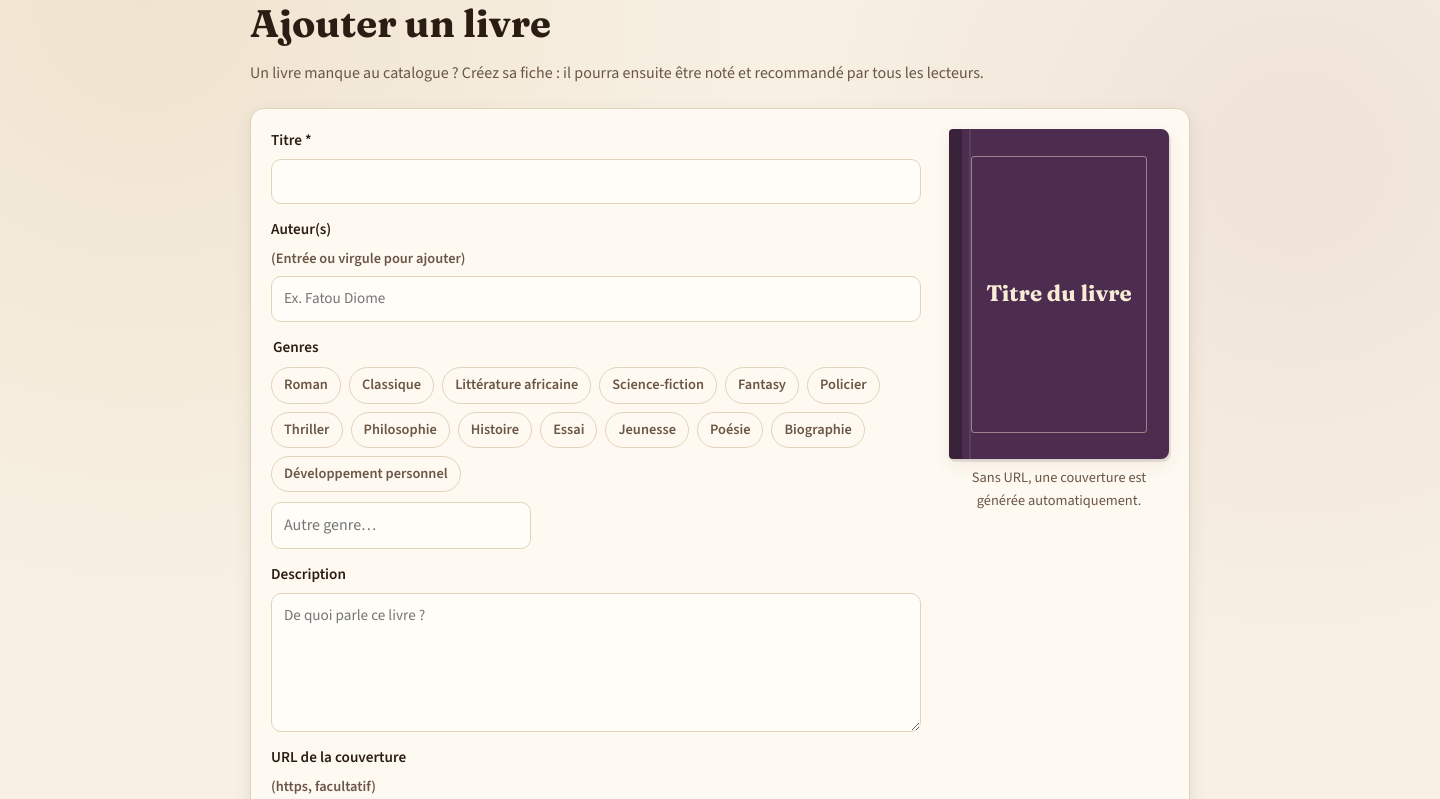
Test: BookFormPage (Ajouter un livre) › affiche le livre existant en cas de doublon (200)
The image size is (1440, 799).
Type "dune" into the field labelled "Titre *".
click(596, 182); type("dune")  # box [271,159,921,204]
(page scrolled)
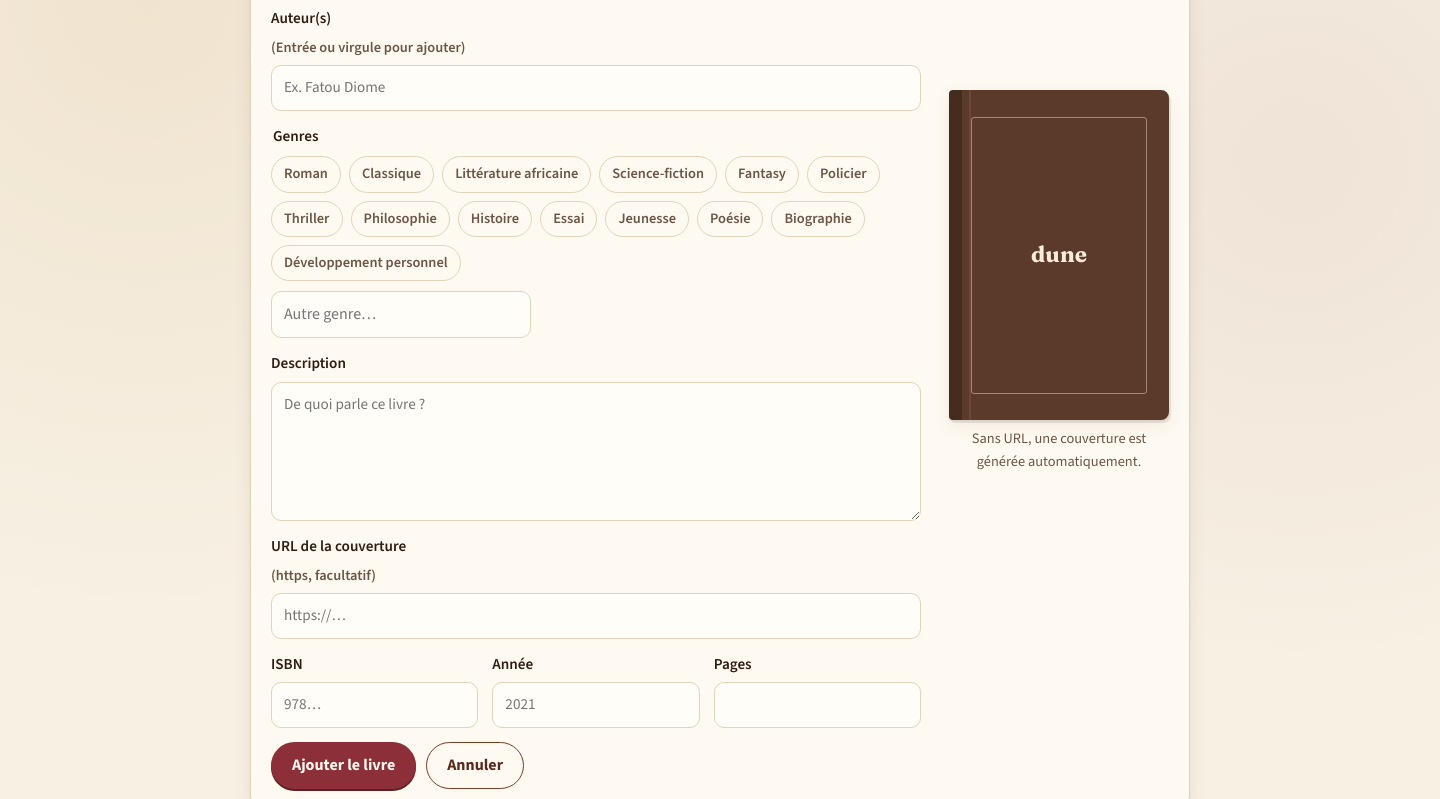
Click the button "Ajouter le livre".
click(344, 765)  # box [271,742,416,789]
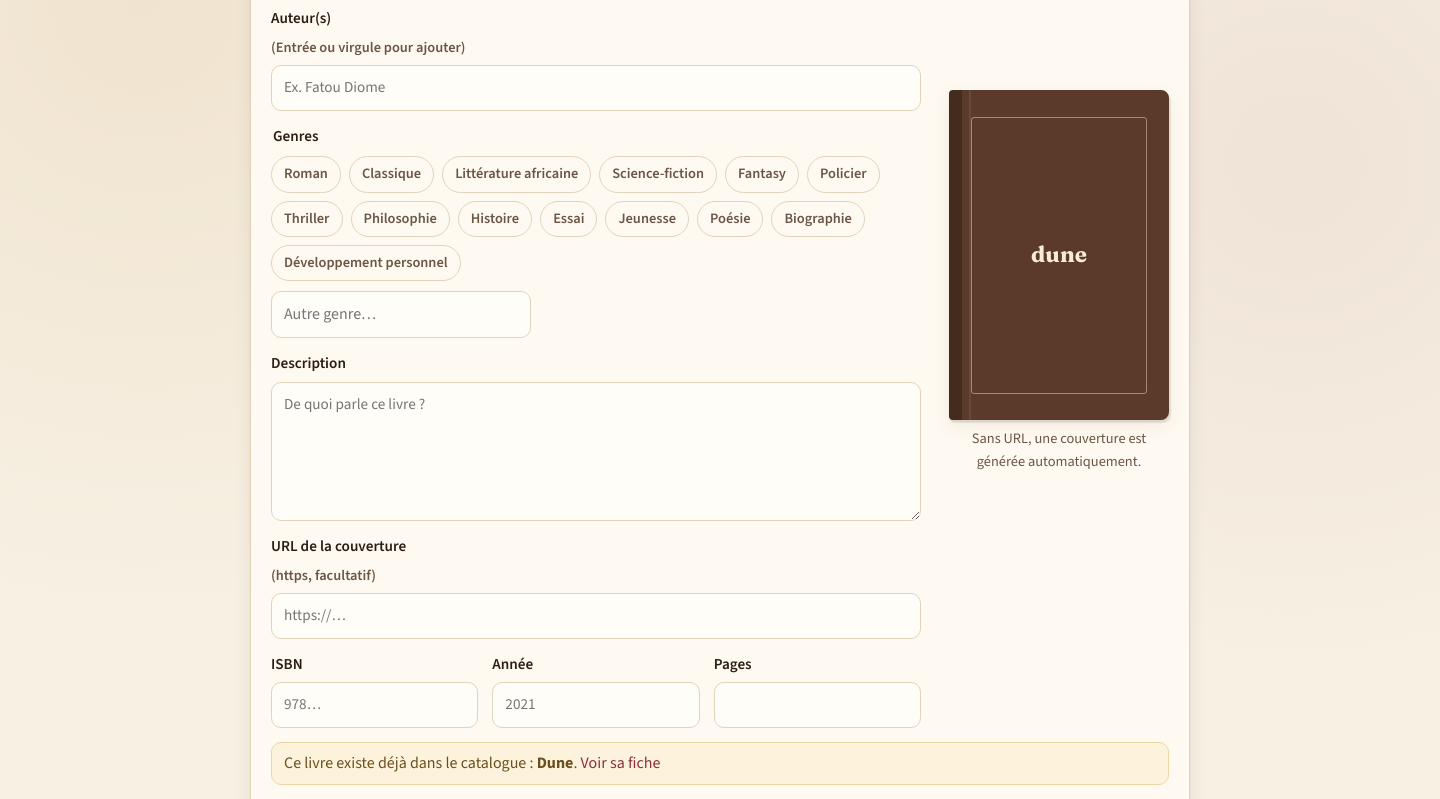
Expected: the text "Ce livre existe déjà dans le catalogue : Dune. Voir sa fiche" is shown, [271,742,1169,785]
